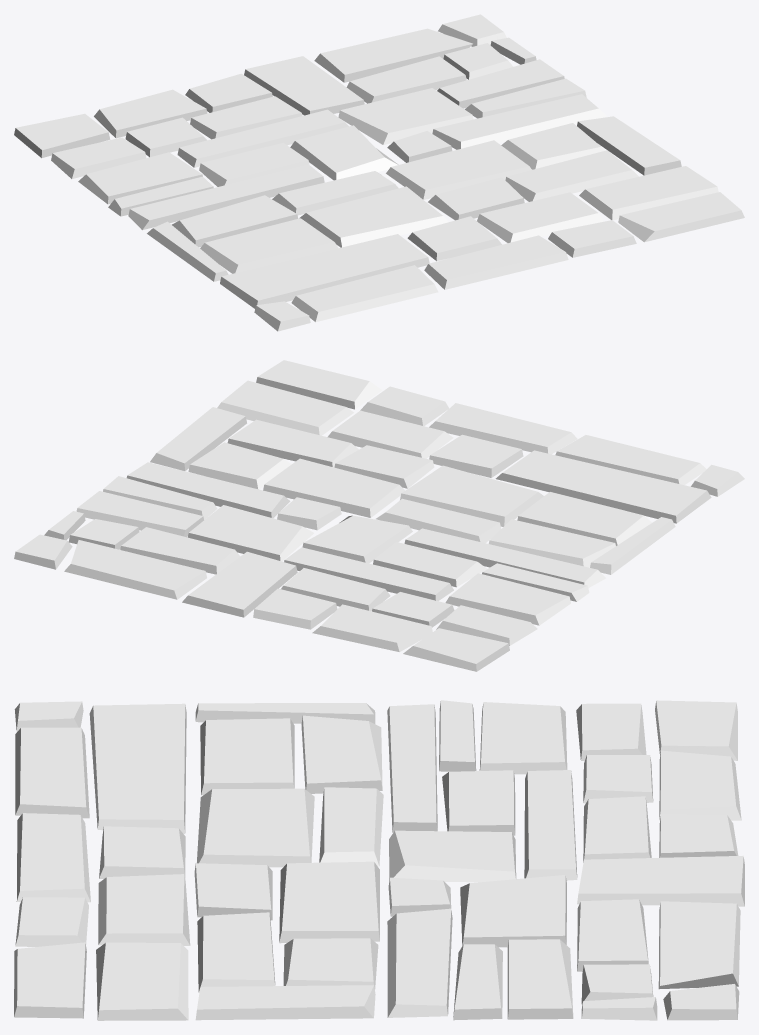
3 views of the same model, one above another, from view 1: azimuth 30°, elevation 25°; view 2: azimuth 150°, elevation 25°; view 3: azimuth 270°, elevation 25° (orthographic). The views are drawn at different scales.
Parts seen in each view (by area): view 1: walkway-stone; view 2: walkway-stone; view 3: walkway-stone.
Boxes of the visible parts, bbox=[...] form: walkway-stone: bbox=[14, 14, 744, 331]; walkway-stone: bbox=[14, 360, 744, 671]; walkway-stone: bbox=[14, 700, 744, 1020].
Bounding box in the file's own units: 1.87 × 0.0277 × 1.85.
